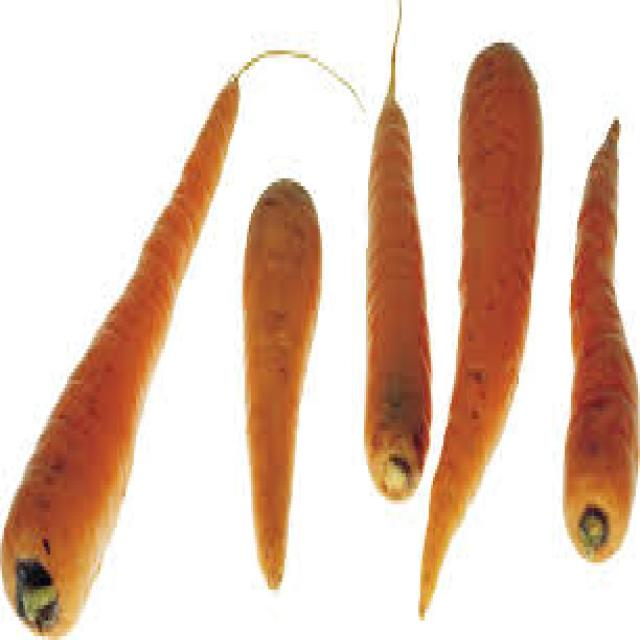Stale_Carrot: (2, 72, 244, 640), (563, 114, 635, 547), (366, 97, 421, 503)
